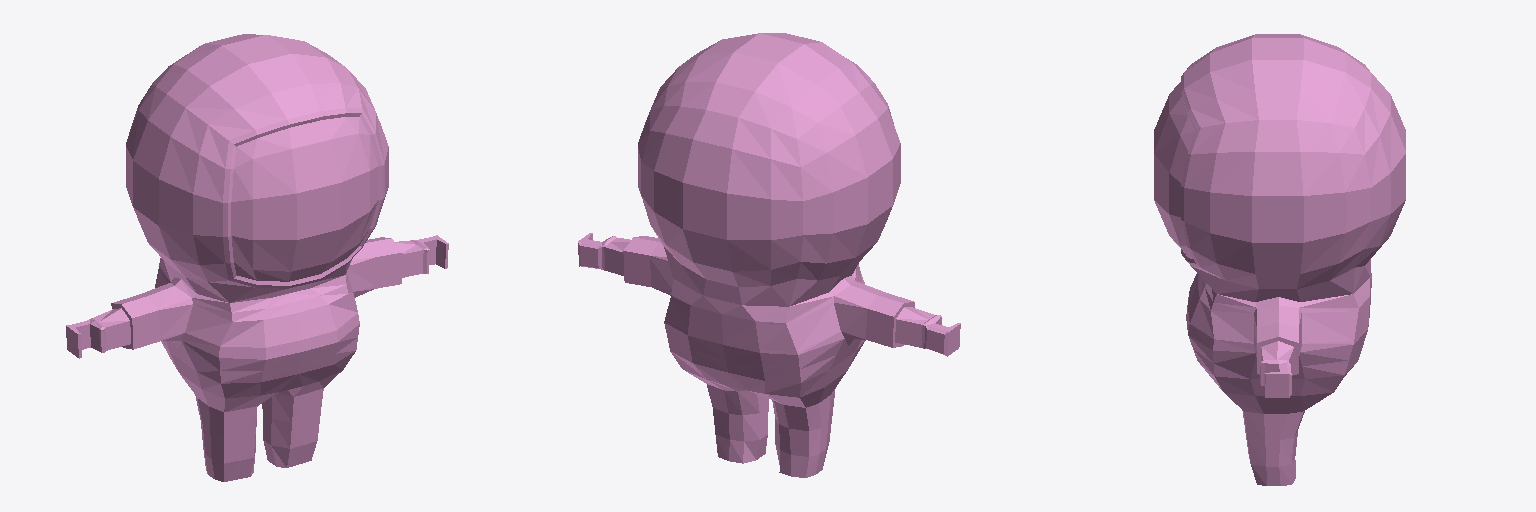
The model's file is main_Character.obj.
3 views of the same model, side by side, from view 1: azimuth 30°, elevation 25°; view 2: azimuth 150°, elevation 25°; view 3: azimuth 270°, elevation 25° (orthographic).
Parts seen in each view (by area): view 1: Box008; view 2: Box008; view 3: Box008.
Part boxes in pixels (x1,y1,x2,y2): Box008: (66, 34, 448, 481); Box008: (578, 33, 960, 477); Box008: (1154, 34, 1405, 485).
Bounding box in the file's own units: 69.12 × 73.74 × 40.73.